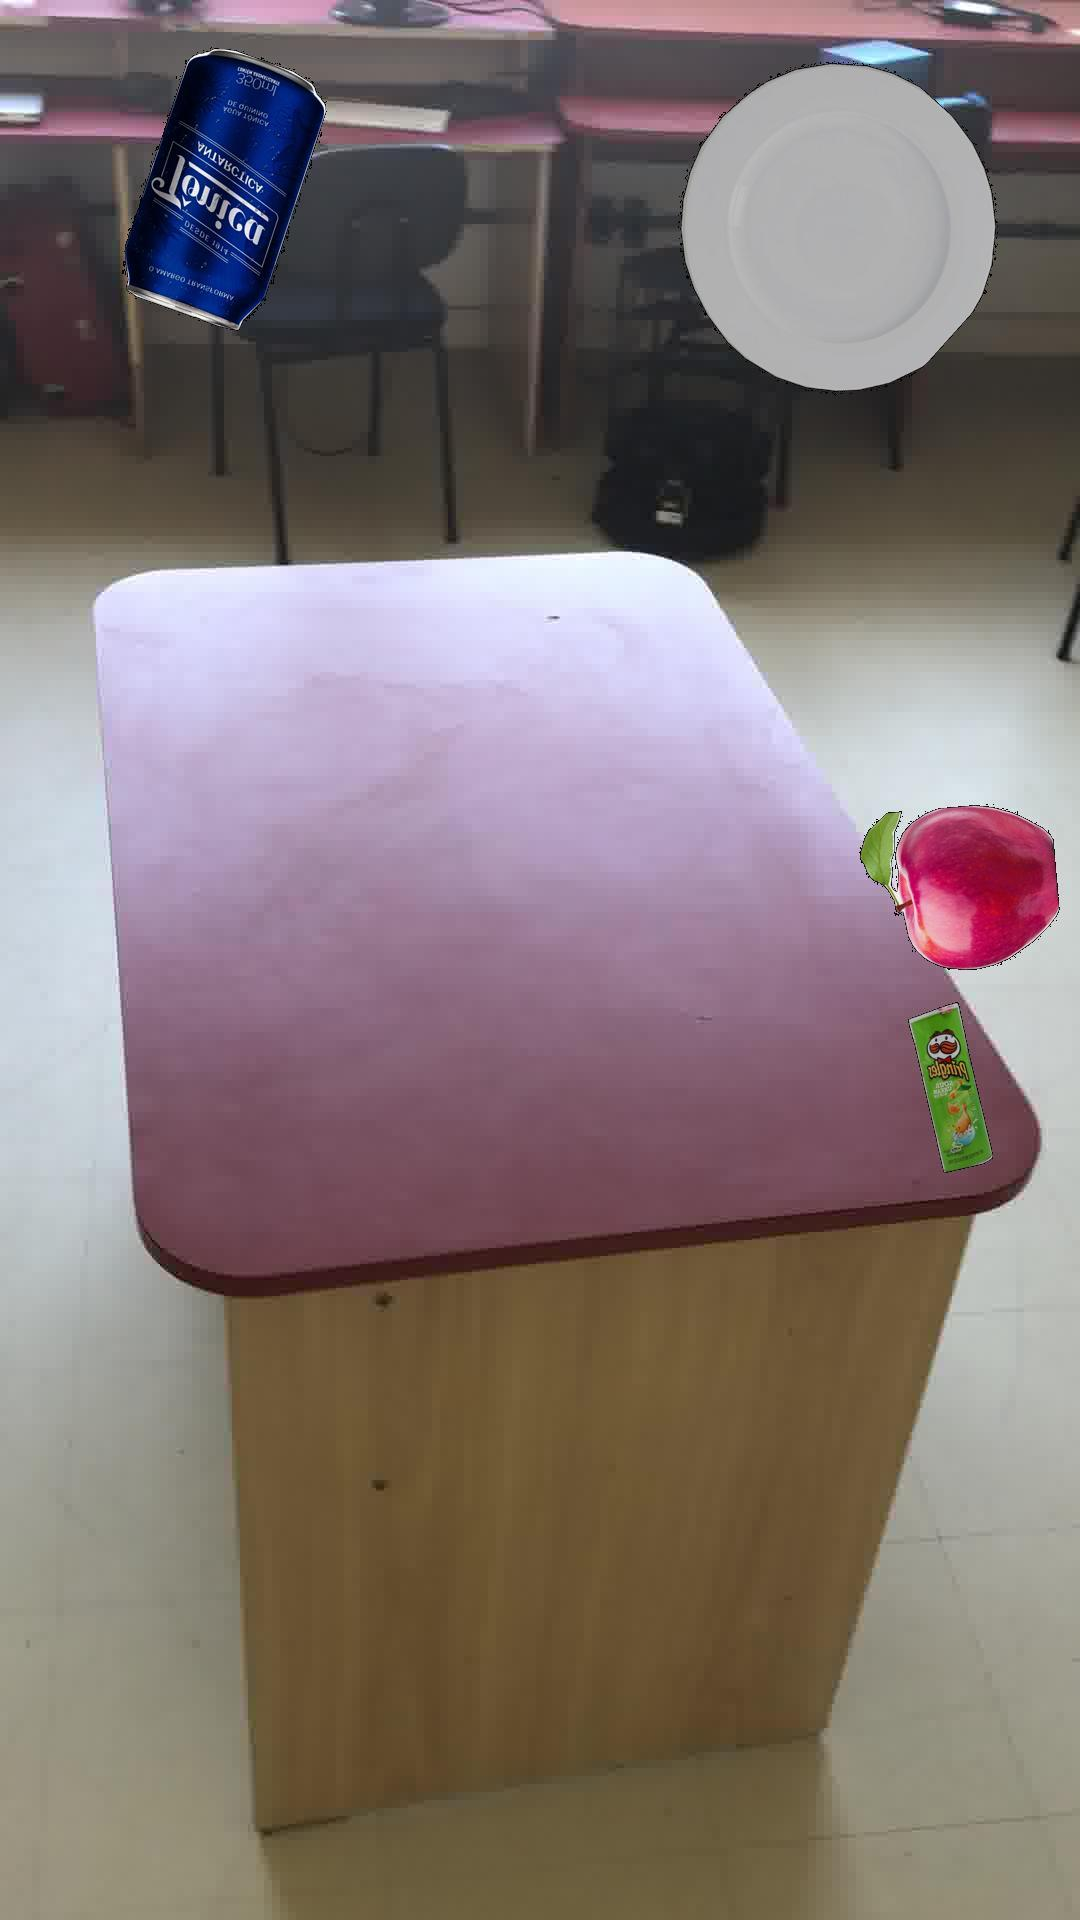apple: (858, 803, 1059, 968)
plate: (679, 61, 997, 390)
pringles: (906, 1001, 992, 1171)
tonic: (121, 46, 326, 330)
